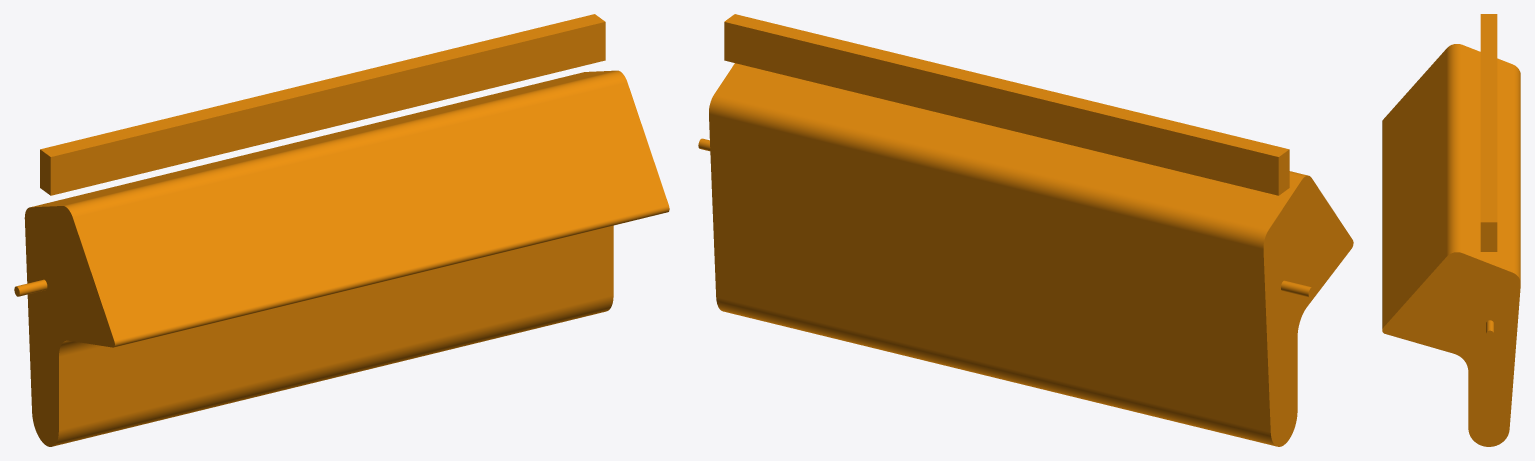
3 renders of one model, left to right at view 1: azimuth 30°, elevation 25°; view 2: azimuth 150°, elevation 25°; view 3: azimuth 270°, elevation 25°, orthographic. The views are drawn at different scales.
Parts seen in each view (by area): view 1: NAUO1; view 2: NAUO1; view 3: NAUO1.
Boxes of the visible parts, box(x1,y1,x2,y2) form: NAUO1: box(14, 14, 669, 446); NAUO1: box(698, 14, 1353, 446); NAUO1: box(1382, 14, 1520, 446).
Bounding box in the file's own units: 0.8382 × 0.3831 × 0.2143.
